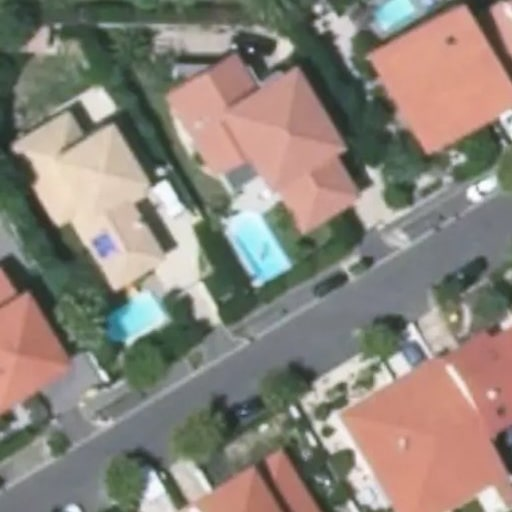pool: (223, 212, 289, 284), (105, 293, 166, 341), (373, 1, 425, 31)
